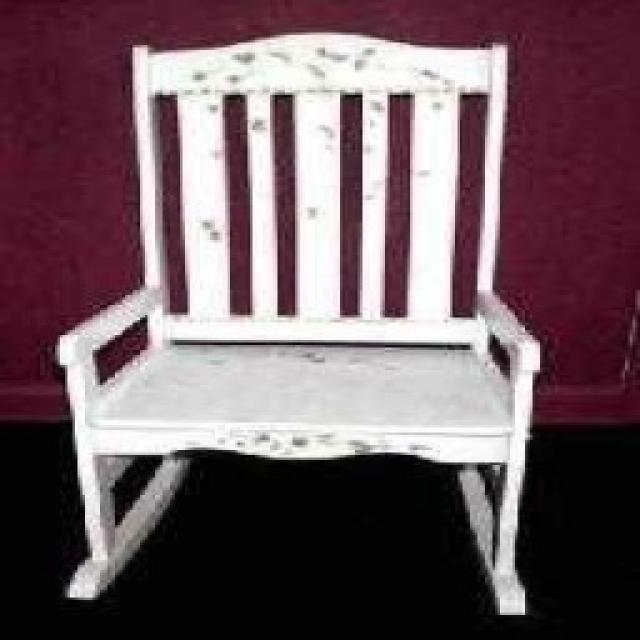sandalye: (52, 27, 542, 615)
